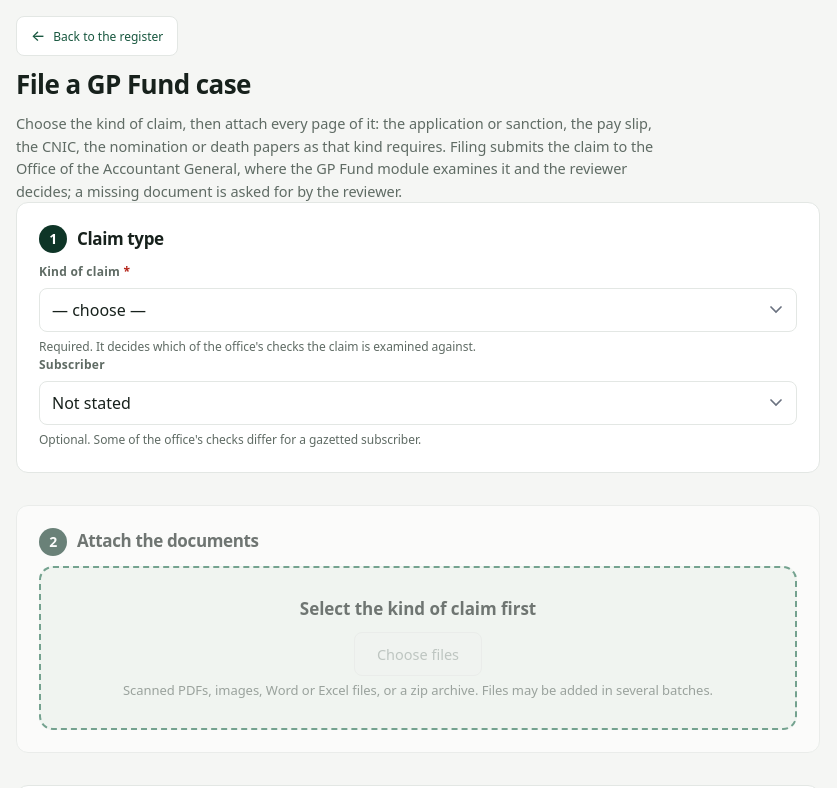
Test: the kind of claim is chosen before anything is attached › choosing a kind opens the papers and explains what the kind is
Select "Refundable advance" in the dropdown labelled "Kind of claim *". click: (418, 310)
box: x1=39 y1=288 x2=797 y2=332
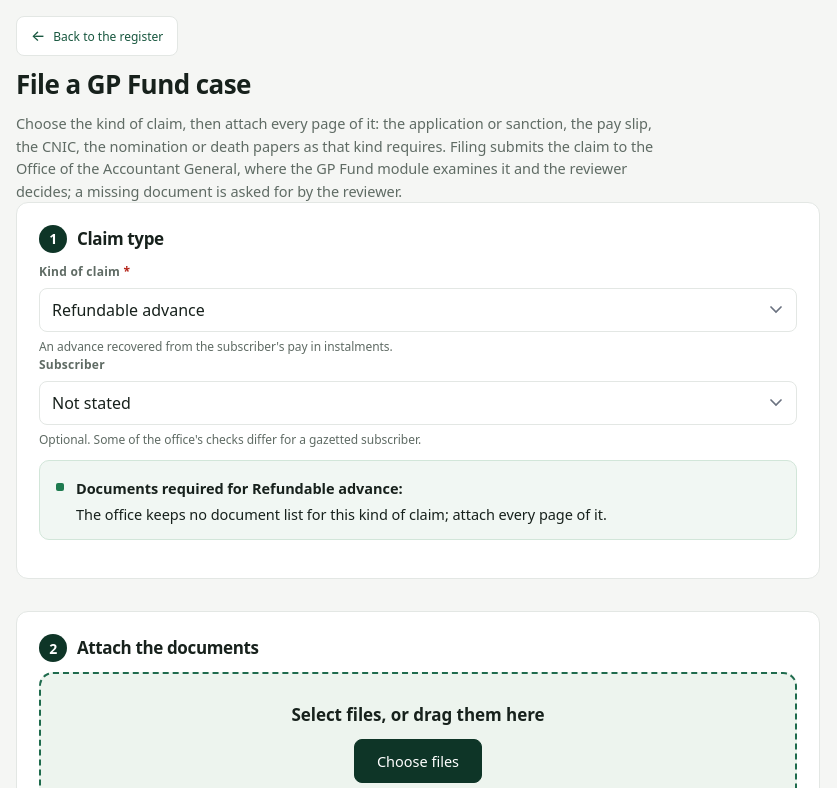
Now the text "recovered from the subscriber's pay in instalments" is shown, box x1=39 y1=338 x2=393 y2=355
